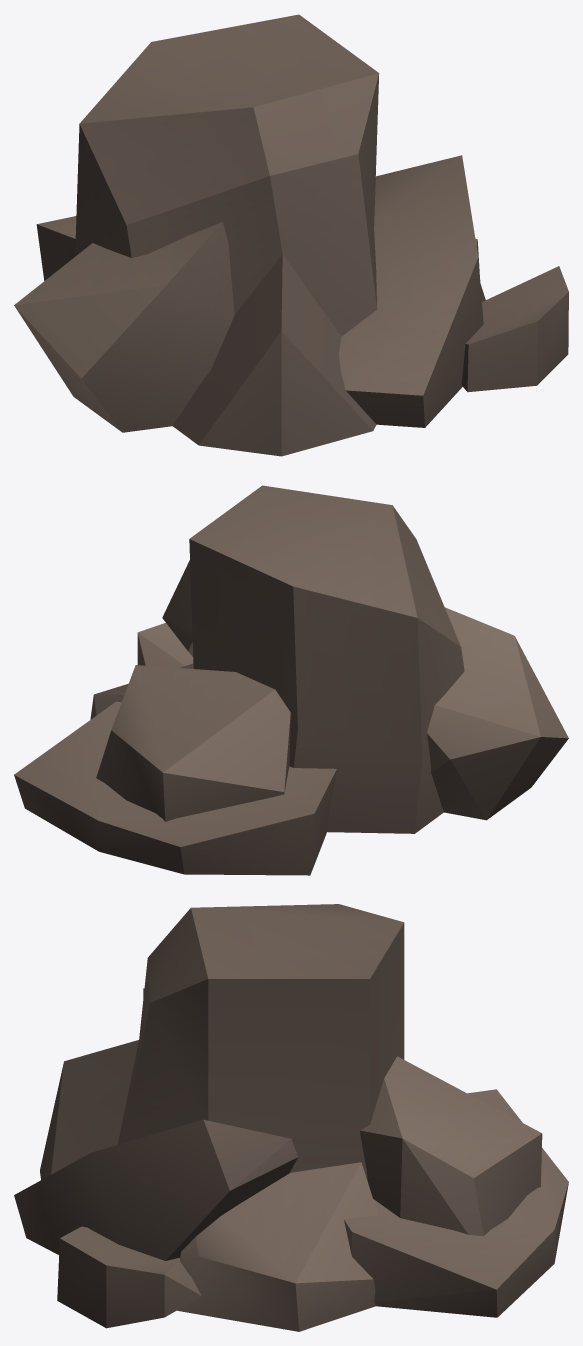
File: rocks.glb
The picture shows the model from 3 angles, top to bottom: view 1: azimuth 30°, elevation 25°; view 2: azimuth 150°, elevation 25°; view 3: azimuth 270°, elevation 25°; orthographic projection. The views are drawn at different scales.
Parts seen in each view (by area): view 1: rocks; view 2: rocks; view 3: rocks.
Part boxes in pixels (x1,y1,x2,y2): rocks: (14, 14, 568, 456); rocks: (14, 485, 568, 875); rocks: (14, 904, 568, 1331).
Size of the model in its own units: 2.84 by 1.56 by 2.74.
1 material, 1 textured.
